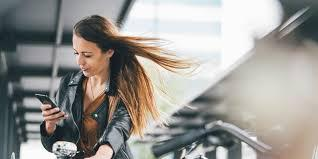0: (70, 40, 102, 81)
Hand: (39, 105, 72, 124)
Smartphone: (36, 94, 68, 120)
